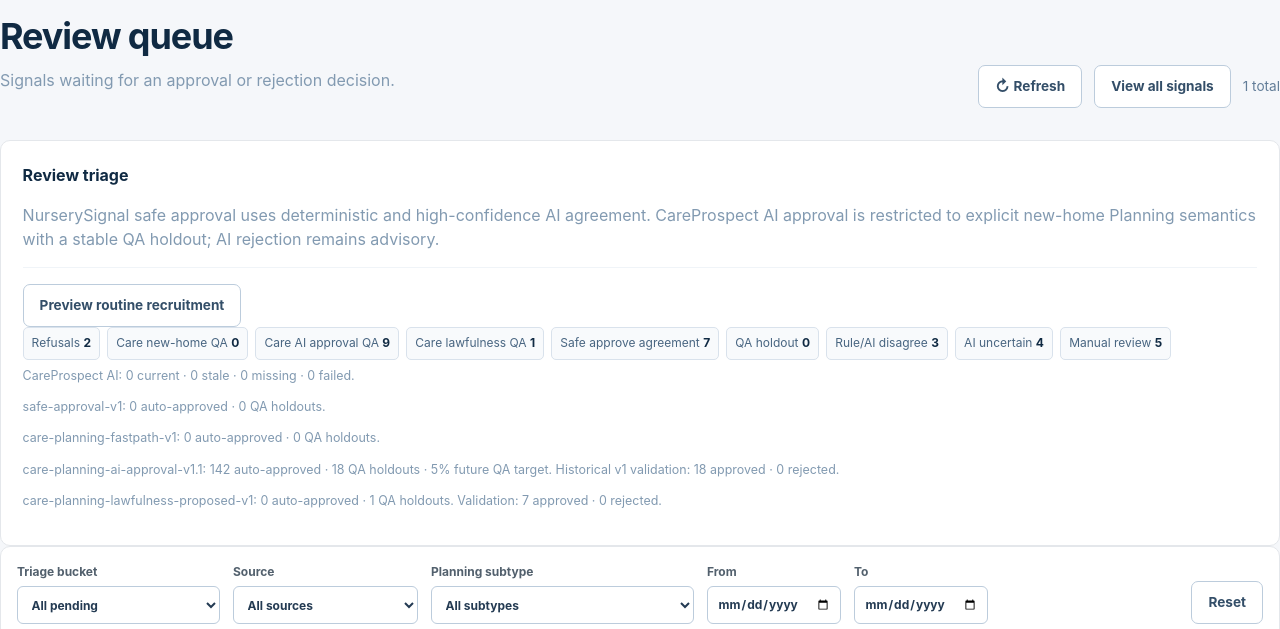
Test: admin frontend › filters to the safe-agreement cohort and keeps it active after manual review
The width and height of the screenshot is (1280, 629).
Expected: the heading "Review triage" is shown, 23,165 -> 128,185
Click the button "Safe approve agreement 7" at (635, 343), box 551,327 -> 719,360
(page scrolled)
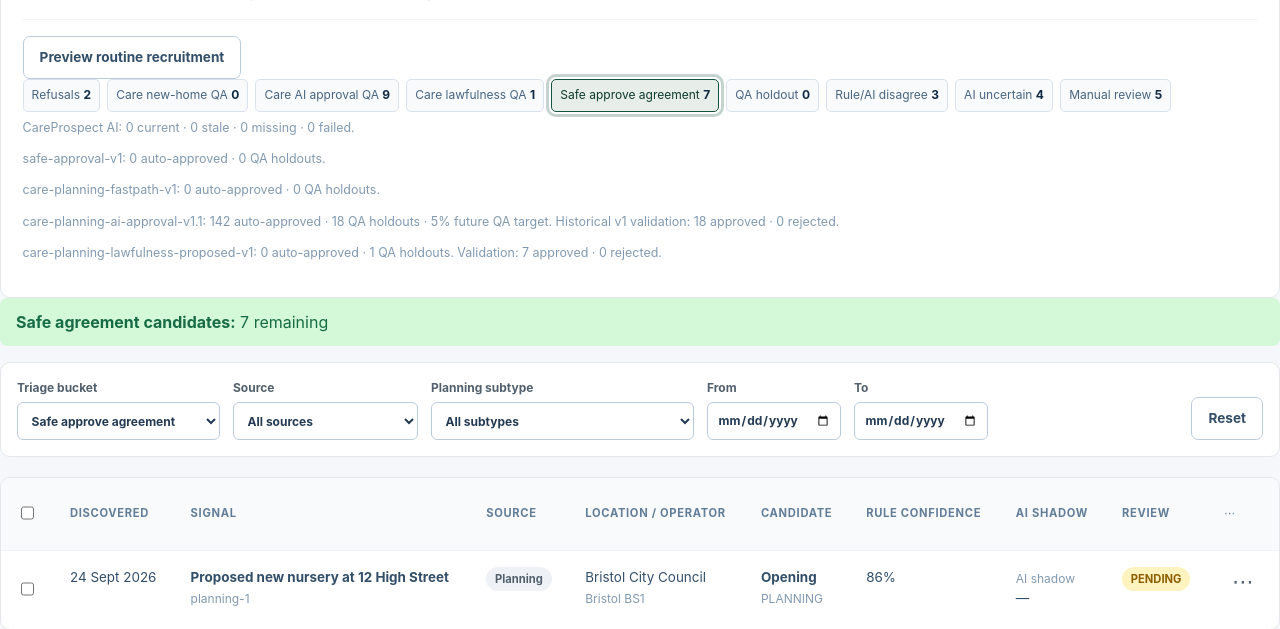
Result: the dropdown labelled "Triage bucket" shows "Safe approve agreement" at 17,402 -> 220,440
Result: the message reads "Safe agreement candidates: 7 remaining" at 0,298 -> 1279,346
Click the button "⋯" at (1243, 581), box 1224,566 -> 1262,596
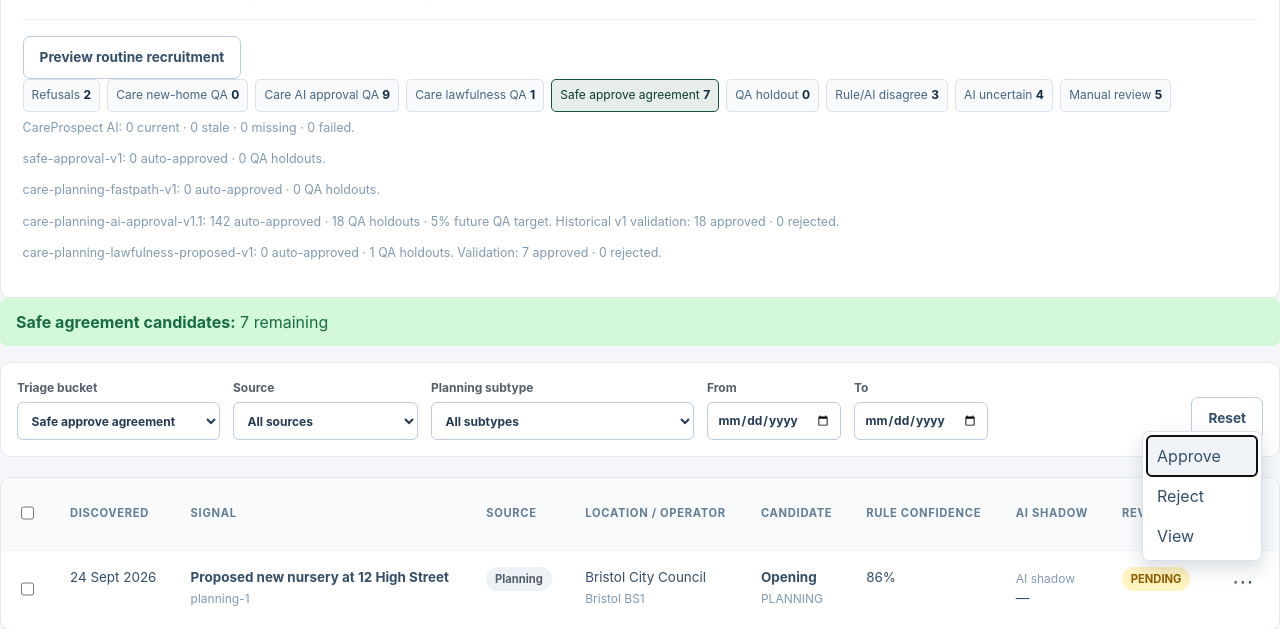
Click the menu item "Approve" at (1202, 456), box 1147,436 -> 1257,476
(page scrolled)
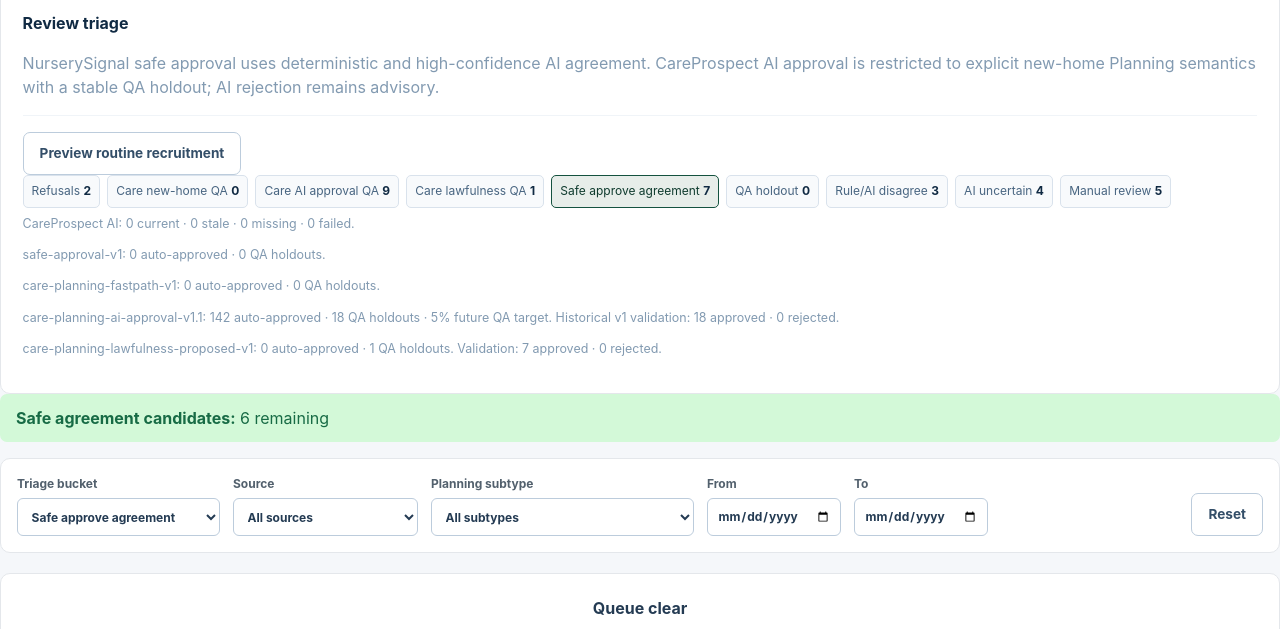
Result: the message reads "Safe agreement candidates: 6 remaining" at 0,394 -> 1279,442
